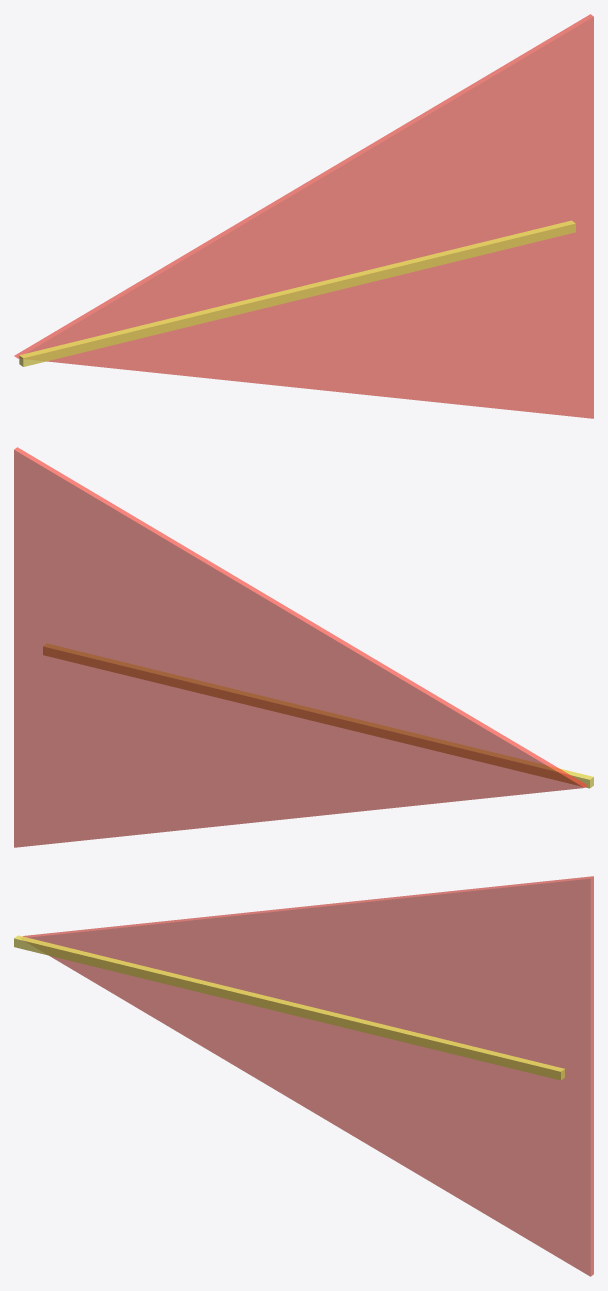
File: telegraph_warning_cone.glb
3 renders of one model, top to bottom at view 1: azimuth 30°, elevation 25°; view 2: azimuth 150°, elevation 25°; view 3: azimuth 330°, elevation 25°, orthographic.
Parts seen in each view (by area): view 1: fill, center; view 2: fill, center; view 3: fill, center.
Boxes of the visible parts, x1,y1,x2,y2 form: fill: (14, 14, 593, 418); center: (19, 220, 575, 366); fill: (14, 447, 587, 847); center: (43, 644, 593, 788); fill: (23, 876, 593, 1276); center: (14, 935, 564, 1080).
Size of the model in its own units: 2.4 by 1.6 by 0.0675.
